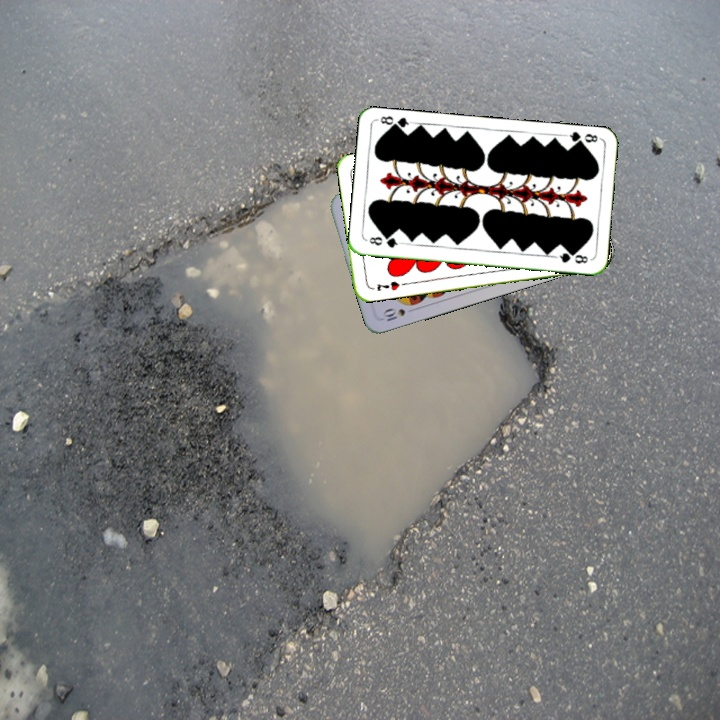G8: (561, 128, 602, 149), (365, 233, 404, 251)
H7: (373, 277, 402, 294)
S10: (378, 304, 408, 324)
